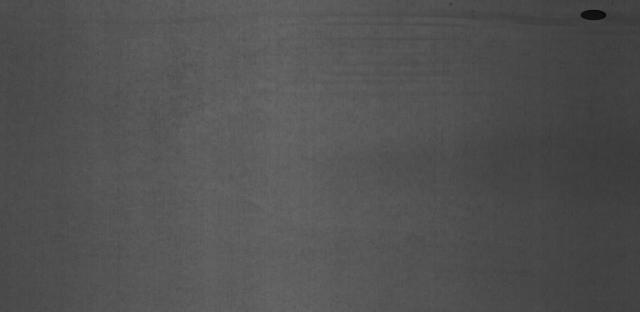punching_hole: (578, 7, 610, 24)
